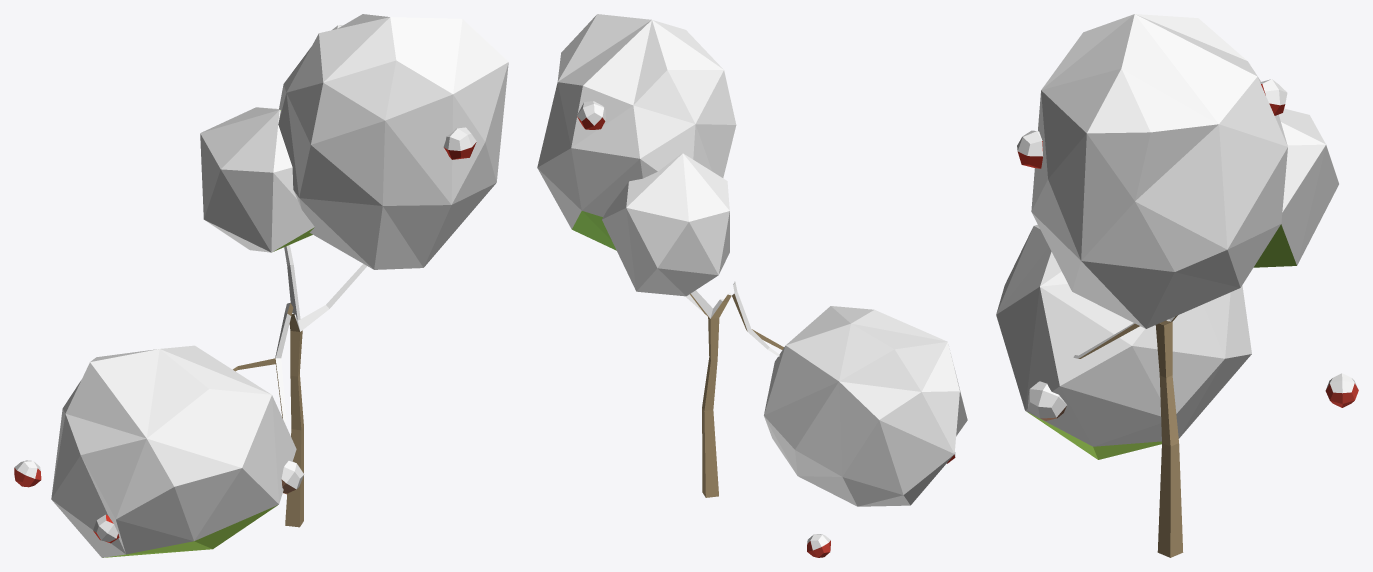
File: Apple_Tree_Apples_crk_s_Snow_02_LOD.fbx
The picture shows the model from 3 angles, left to right: view 1: azimuth 30°, elevation 25°; view 2: azimuth 150°, elevation 25°; view 3: azimuth 270°, elevation 25°; orthographic projection. The views are drawn at different scales.
Visible parts, largest first — view 1: Apple_Tree_Apples_crk_s_Snow_02_LOD0; view 2: Apple_Tree_Apples_crk_s_Snow_02_LOD0; view 3: Apple_Tree_Apples_crk_s_Snow_02_LOD0.
Part boxes in pixels (x1,y1,x2,y2): Apple_Tree_Apples_crk_s_Snow_02_LOD0: (14, 14, 508, 557); Apple_Tree_Apples_crk_s_Snow_02_LOD0: (537, 14, 967, 557); Apple_Tree_Apples_crk_s_Snow_02_LOD0: (996, 14, 1358, 557).
Size of what is drawn, in the model's own units: 279 by 304 by 171.
